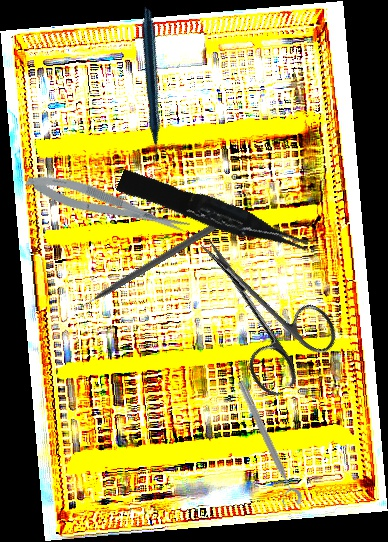Fixation Ring: (226, 377, 306, 513)
Handpiece: (74, 6, 224, 167)
Hook Surgical: (71, 205, 244, 314)
Iris Scissors: (165, 212, 348, 402)
Micro Scissor: (22, 165, 193, 245)
Tissue Forceps: (115, 160, 311, 268)
